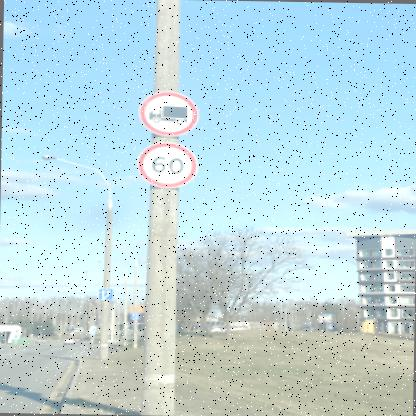speedlimit: (135, 140, 195, 187)
